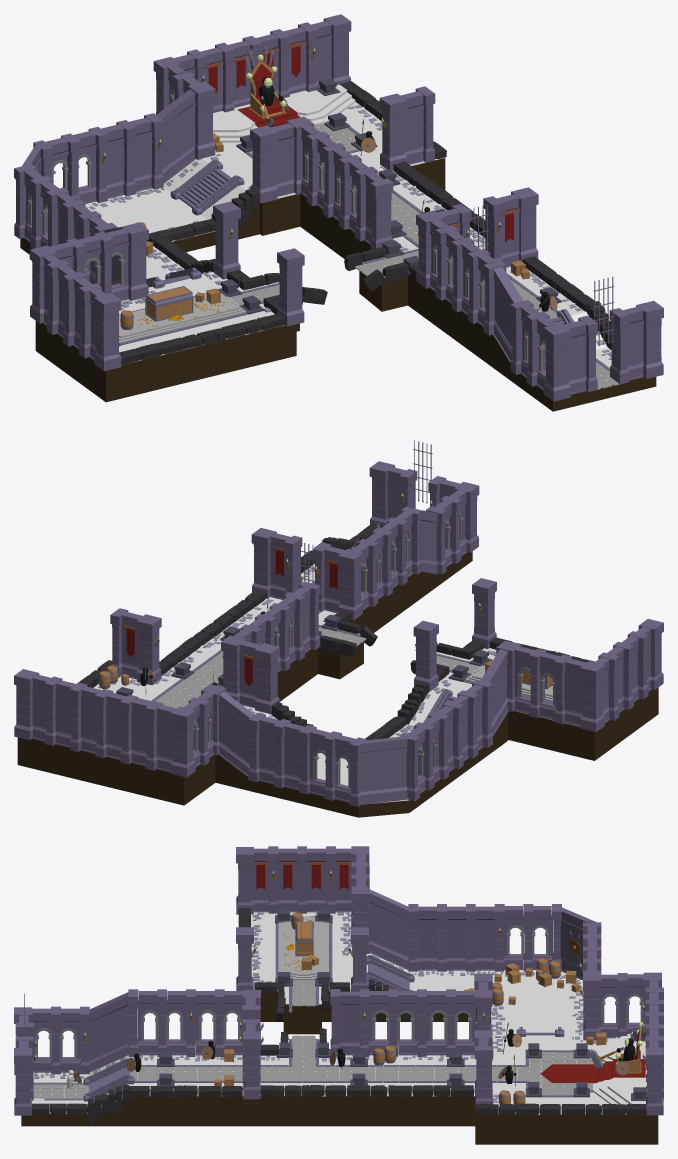
3 renders of one model, top to bottom at view 1: azimuth 30°, elevation 25°; view 2: azimuth 150°, elevation 25°; view 3: azimuth 270°, elevation 25°, orthographic. The views are drawn at different scales.
Visible parts, largest first — view 1: Floor, P_Steps, Window.030, P_Treasure, Column.001, Steps.001, Column.025, Column.004, Floor_Stone.050, Column.005, Column.024, Column.012 (+56 smaller); view 2: Floor, Window.027, Window.030, Column.016, Column.026, Column.012, Column.005, Column.007, Column.022, Column.010, Column.024, Window.031 (+62 smaller); view 3: Floor, Floor_Stone.050, Window.013, Window.031, P_Treasure, P_Steps, Rug, Window.029, Window.008, Window.009, Window.042, Window.027 (+51 smaller).
Part boxes in pixels (box(x1,y1,x2,y2)): Floor: box(20, 102, 656, 411); P_Steps: box(213, 84, 355, 142); Window.030: box(156, 89, 195, 183); P_Treasure: box(119, 293, 246, 343); Column.001: box(578, 308, 629, 391); Steps.001: box(170, 159, 244, 215); Column.025: box(93, 293, 121, 371); Column.004: box(543, 323, 571, 401); Floor_Stone.050: box(85, 105, 641, 378); Column.005: box(510, 300, 549, 386); Column.024: box(277, 248, 304, 326); Column.012: box(250, 125, 277, 203); Floor: box(17, 551, 658, 817); Window.027: box(360, 736, 408, 804); Window.030: box(218, 691, 254, 777); Column.016: box(170, 706, 195, 777); Column.026: box(580, 661, 605, 732); Column.012: box(254, 643, 279, 714); Column.005: box(426, 495, 461, 574); Column.007: box(338, 549, 363, 619); Column.022: box(413, 620, 438, 691); Column.010: box(136, 614, 161, 685); Column.024: box(472, 578, 496, 648); Window.031: box(481, 649, 508, 736); Floor: box(21, 912, 658, 1144); Floor_Stone.050: box(34, 911, 607, 1109); Window.013: box(88, 992, 129, 1072); Window.031: box(368, 889, 409, 969); P_Treasure: box(279, 916, 328, 980); P_Steps: box(593, 1032, 646, 1104); Rug: box(540, 1059, 645, 1082); Window.029: box(474, 906, 495, 970); Window.008: box(445, 906, 466, 970); Window.009: box(417, 906, 438, 970); Window.042: box(339, 991, 360, 1055); Window.027: box(560, 907, 595, 980).
Bounding box in the file's own units: 5161 × 1224 × 6769.
